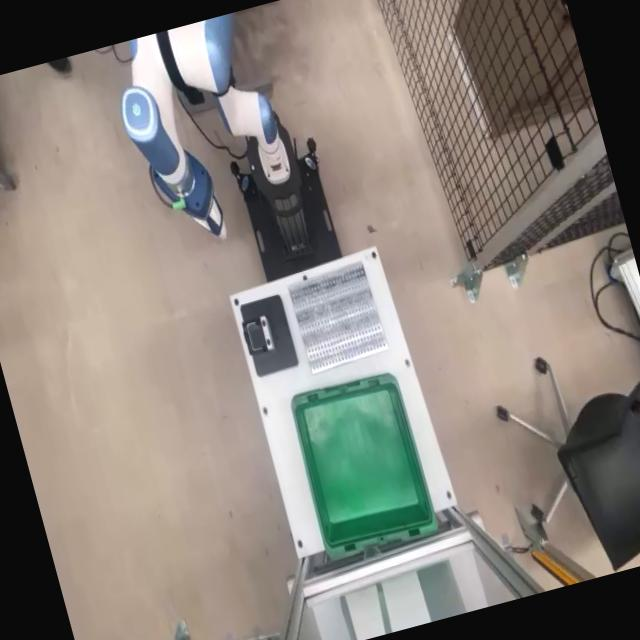robot: (101, 8, 306, 258)
